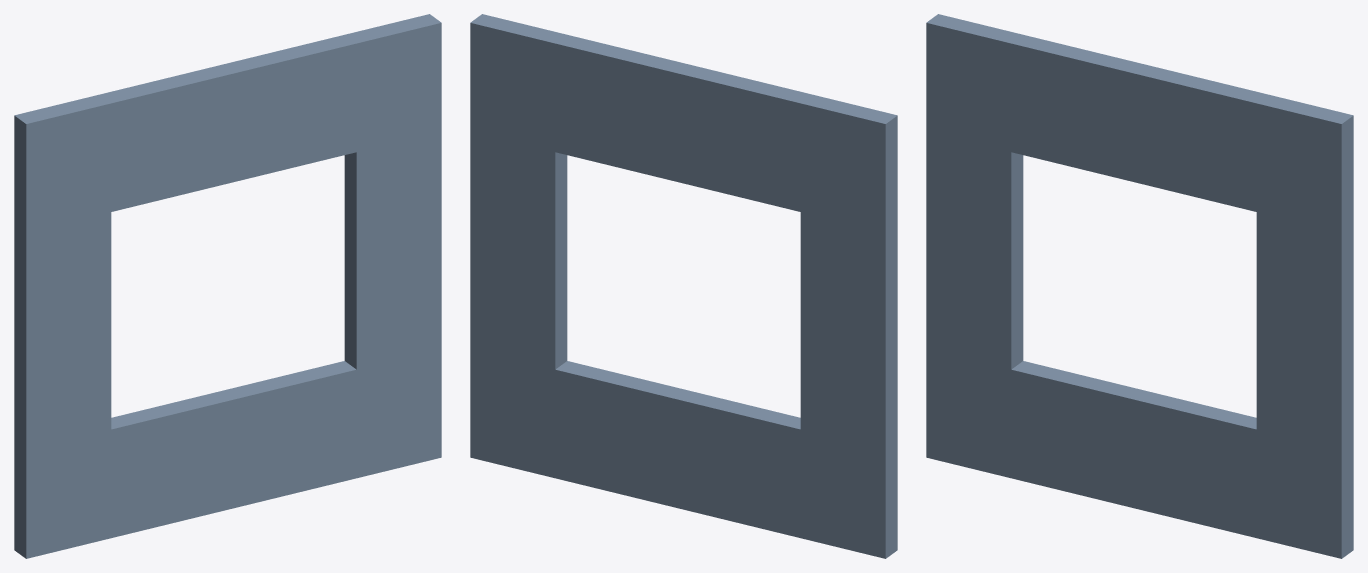
File: Wal_1_C.fbx
3 views of the same model, side by side, from view 1: azimuth 30°, elevation 25°; view 2: azimuth 150°, elevation 25°; view 3: azimuth 330°, elevation 25° (orthographic).
Parts seen in each view (by area): view 1: pCube4; view 2: pCube4; view 3: pCube4.
Boxes of the visible parts, x1,y1,x2,y2 form: pCube4: (14,14,441,558); pCube4: (470,14,897,558); pCube4: (926,14,1353,558).
Bounding box in the file's own units: 4 × 4 × 0.2.
1 material, 1 textured.
